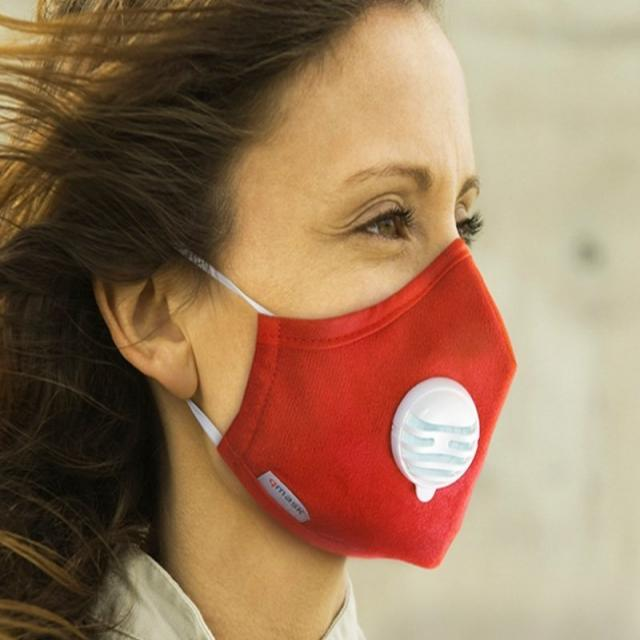mask: (214, 12, 516, 570)
